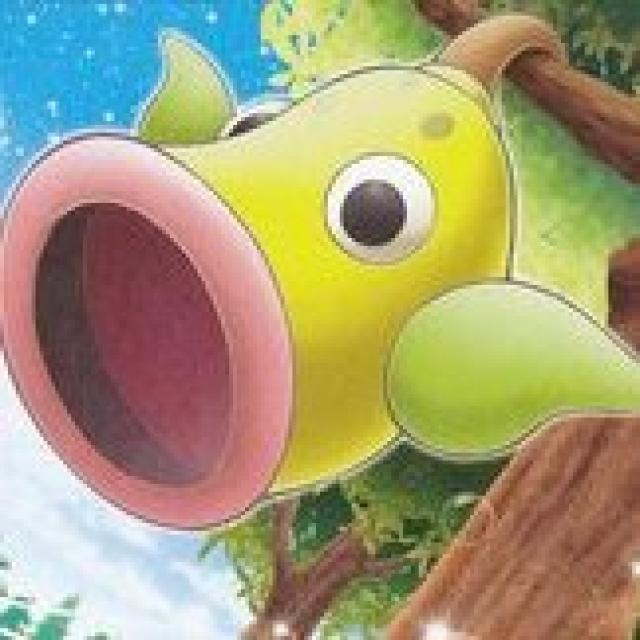Weepinbell: (6, 12, 640, 546)
